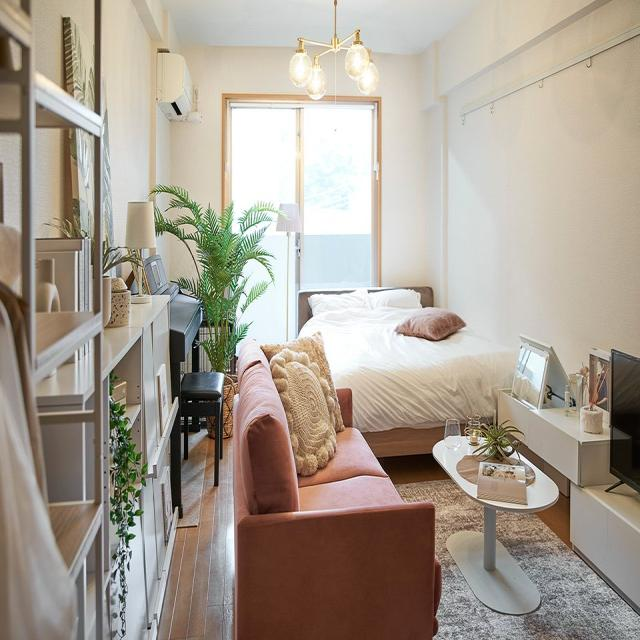modern bed: (291, 271, 520, 430)
modern desk: (431, 429, 565, 629)
modern shelf: (6, 2, 182, 640)
modern sofa: (231, 321, 441, 640)
